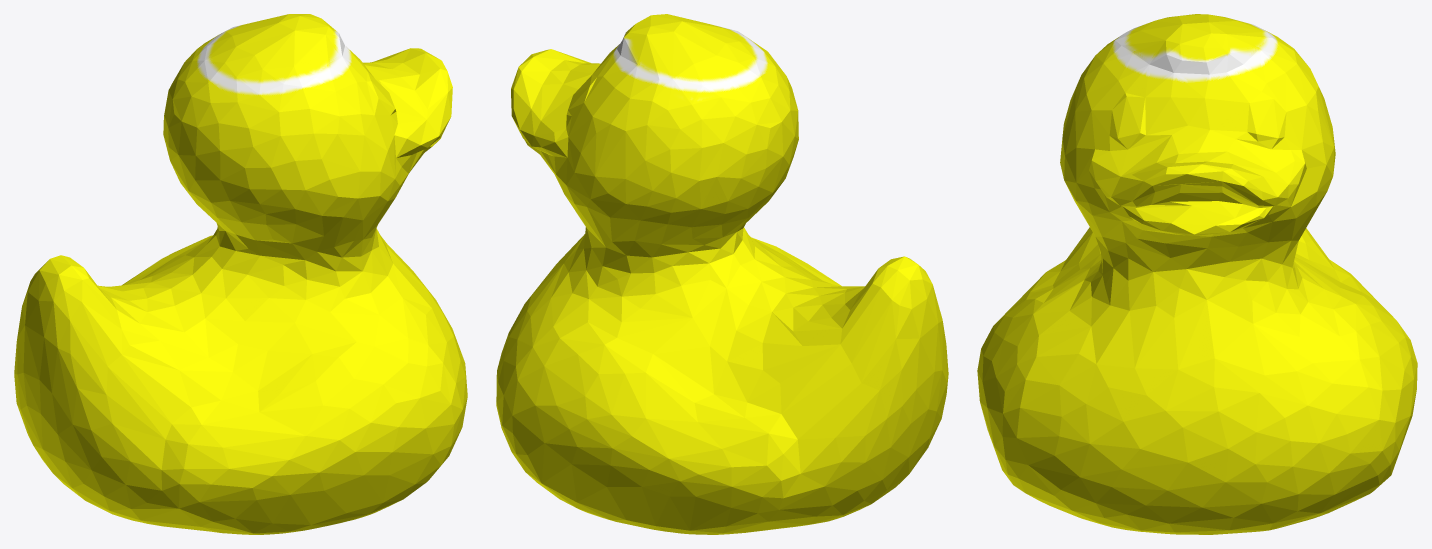
File: duck_isc.obj
3 renders of one model, left to right at view 1: azimuth 30°, elevation 25°; view 2: azimuth 150°, elevation 25°; view 3: azimuth 270°, elevation 25°, orthographic. The views are drawn at different scales.
Visible parts, largest first — view 1: spiderman_rubber_ducky; view 2: spiderman_rubber_ducky; view 3: spiderman_rubber_ducky.
Part boxes in pixels (x1,y1,x2,y2): spiderman_rubber_ducky: [14, 14, 467, 534]; spiderman_rubber_ducky: [496, 14, 948, 534]; spiderman_rubber_ducky: [977, 14, 1417, 534].
Size of the model in its own units: 0.0981 by 0.099 by 0.0866.
1 material, 1 textured.
